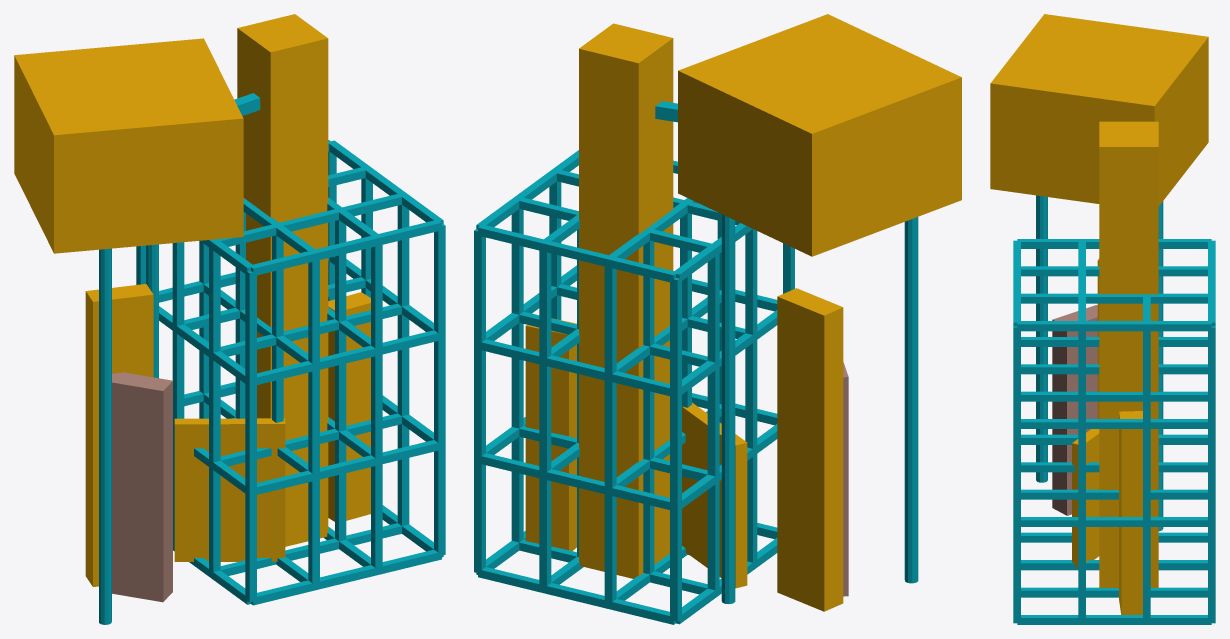
File: folie_tag_128.glb
3 renders of one model, left to right at view 1: azimuth 30°, elevation 25°; view 2: azimuth 150°, elevation 25°; view 3: azimuth 270°, elevation 25°, orthographic. The views are drawn at different scales.
Parts seen in each view (by area): view 1: folie_tag_128_00_cage, folie_tag_128_01_block, folie_tag_128_core, folie_tag_128_03_fin, folie_tag_128_05_panel, folie_tag_128_02_fin, folie_tag_128_line, folie_tag_128_04_fin; view 2: folie_tag_128_00_cage, folie_tag_128_01_block, folie_tag_128_core, folie_tag_128_02_fin, folie_tag_128_line, folie_tag_128_04_fin, folie_tag_128_05_panel, folie_tag_128_03_fin; view 3: folie_tag_128_00_cage, folie_tag_128_01_block, folie_tag_128_core, folie_tag_128_04_fin, folie_tag_128_03_fin, folie_tag_128_line, folie_tag_128_05_panel.
Part boxes in pixels (box(x1,y1,x2,y2)): folie_tag_128_00_cage: box(136, 140, 445, 605); folie_tag_128_01_block: box(14, 38, 243, 253); folie_tag_128_core: box(237, 14, 328, 546); folie_tag_128_03_fin: box(112, 372, 172, 602); folie_tag_128_05_panel: box(174, 418, 285, 561); folie_tag_128_02_fin: box(85, 284, 153, 586); folie_tag_128_line: box(99, 93, 260, 624); folie_tag_128_04_fin: box(328, 292, 370, 521); folie_tag_128_00_cage: box(474, 150, 794, 624); folie_tag_128_01_block: box(678, 14, 961, 256); folie_tag_128_core: box(579, 23, 673, 578); folie_tag_128_02_fin: box(777, 288, 843, 611); folie_tag_128_line: box(655, 101, 918, 603); folie_tag_128_04_fin: box(525, 318, 576, 550); folie_tag_128_05_panel: box(682, 402, 747, 588); folie_tag_128_03_fin: box(843, 362, 848, 596); folie_tag_128_00_cage: box(1013, 239, 1215, 624); folie_tag_128_01_block: box(990, 14, 1208, 206); folie_tag_128_core: box(1099, 121, 1158, 587); folie_tag_128_04_fin: box(1119, 411, 1142, 614); folie_tag_128_03_fin: box(1052, 305, 1097, 515); folie_tag_128_line: box(1036, 195, 1163, 531); folie_tag_128_05_panel: box(1072, 429, 1099, 567).
Bounding box in the file's own units: 7.14 × 9.15 × 4.16.
